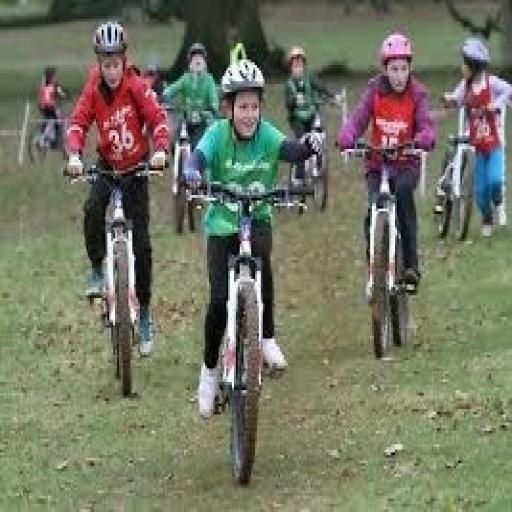cycling: (180, 54, 326, 423), (62, 19, 172, 360), (334, 30, 439, 298), (439, 35, 510, 241)
